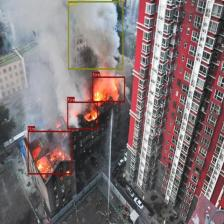fire: (28, 130, 72, 174), (67, 102, 98, 130), (92, 76, 125, 102)
smoke: (68, 1, 123, 69)
